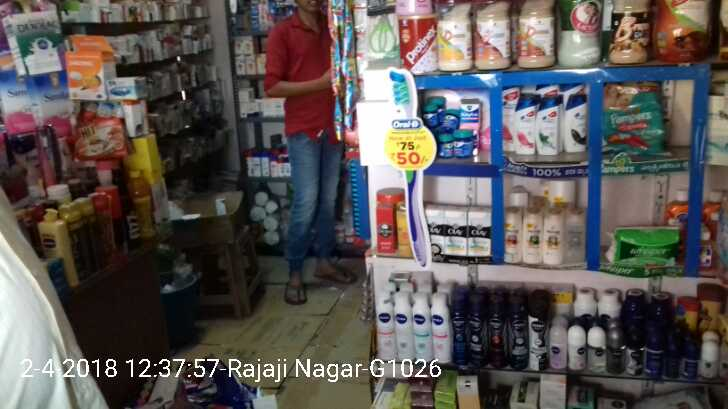vicks: (424, 98, 481, 158)
